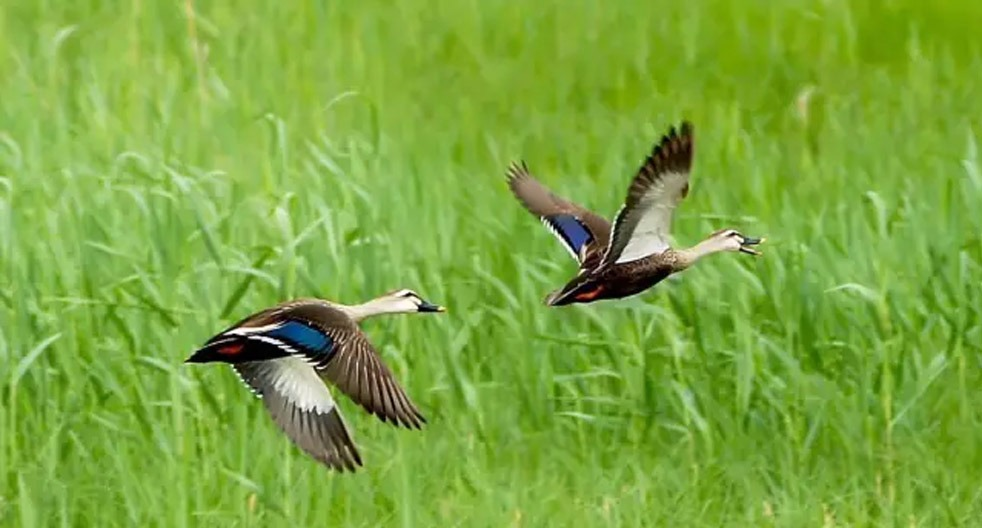bird: (499, 117, 767, 308), (188, 283, 451, 475)
